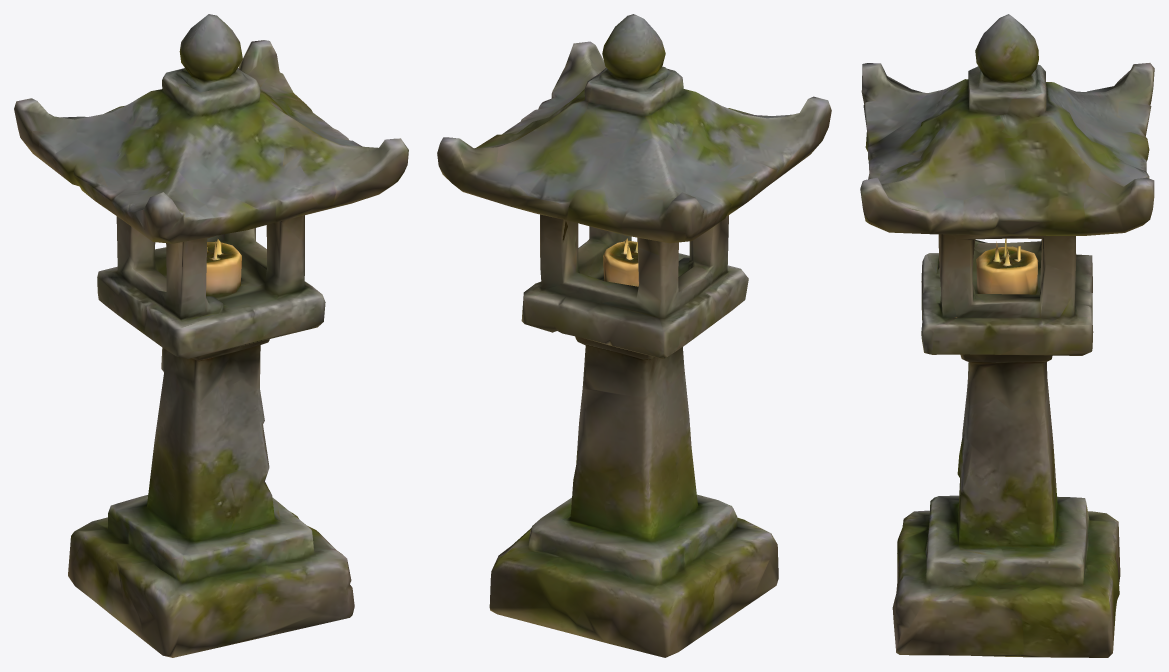
Rendered from stone-lantern.glb.
3 views of the same model, side by side, from view 1: azimuth 30°, elevation 25°; view 2: azimuth 150°, elevation 25°; view 3: azimuth 270°, elevation 25° (orthographic). The views are drawn at different scales.
Parts seen in each view (by area): view 1: stone-lantern; view 2: stone-lantern; view 3: stone-lantern.
Part boxes in pixels (x1,y1,x2,y2): stone-lantern: (14,14,408,657); stone-lantern: (437,14,831,657); stone-lantern: (860,14,1154,657).
Bounding box in the file's own units: 1.37 × 3 × 1.35.
1 material, 1 textured.
